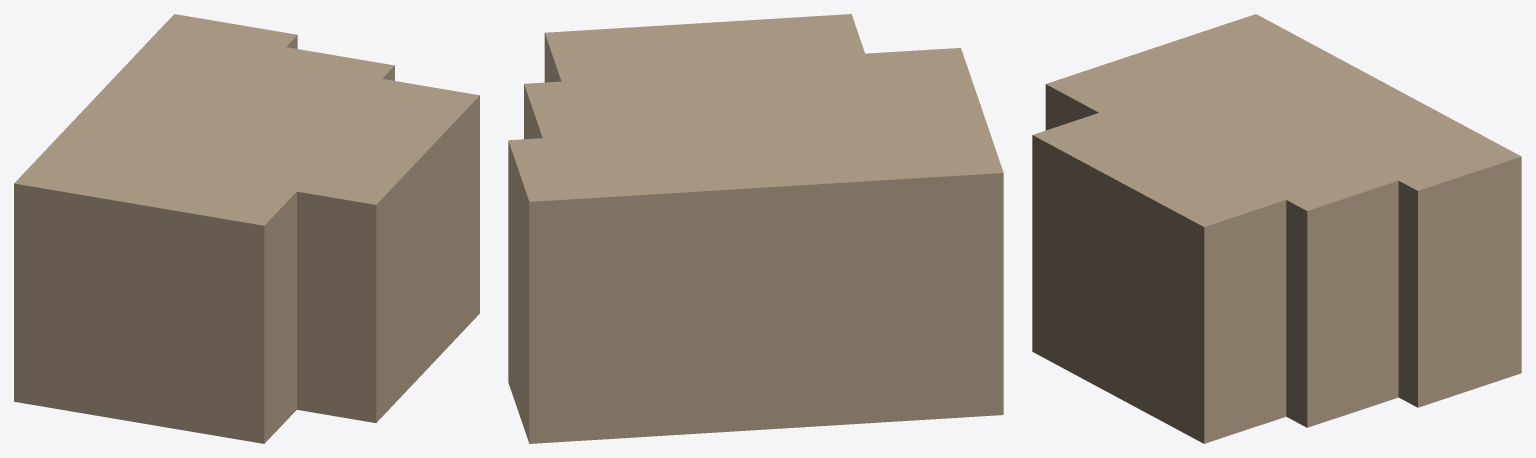
The model's file is bld_106338979.dae.
3 views of the same model, side by side, from view 1: azimuth 30°, elevation 25°; view 2: azimuth 150°, elevation 25°; view 3: azimuth 270°, elevation 25° (orthographic). The views are drawn at different scales.
Visible parts, largest first — view 1: bld_106338979; view 2: bld_106338979; view 3: bld_106338979.
Part boxes in pixels (x1,y1,x2,y2): bld_106338979: [14, 14, 479, 443]; bld_106338979: [508, 14, 1003, 443]; bld_106338979: [1032, 14, 1521, 443].
Size of the model in its own units: 16.87 by 16.36 by 8.
